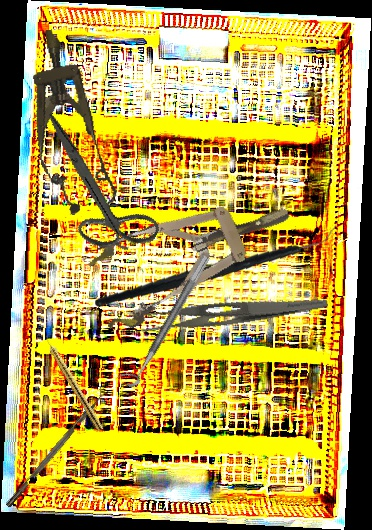Chopper: (94, 202, 340, 329), (0, 385, 109, 508)
Dressing Forceps: (128, 277, 329, 343)
Fixation Ring: (116, 248, 211, 390)
Handpiece: (41, 333, 106, 432)
Iris Scissors: (7, 111, 185, 268)
Speculum: (78, 173, 306, 337), (14, 22, 122, 220)
